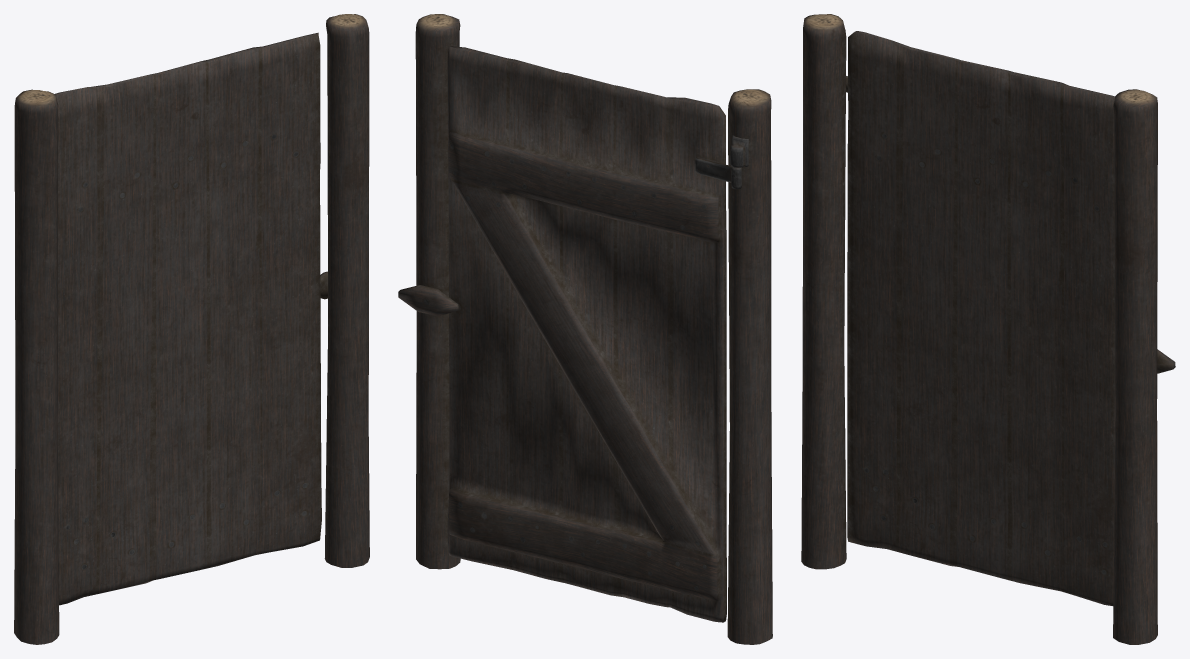
File: woodenDoor1.fbx
3 renders of one model, left to right at view 1: azimuth 30°, elevation 25°; view 2: azimuth 150°, elevation 25°; view 3: azimuth 330°, elevation 25°, orthographic.
Parts seen in each view (by area): view 1: vorota.001; view 2: vorota.001; view 3: vorota.001.
Boxes of the visible parts, x1=… form: vorota.001: x1=14, y1=14, x2=369, y2=644; vorota.001: x1=398, y1=14, x2=772, y2=644; vorota.001: x1=801, y1=14, x2=1175, y2=644.
Bounding box in the file's own units: 74.23 × 107 × 10.
Materials: 1 (1 with a texture image).
